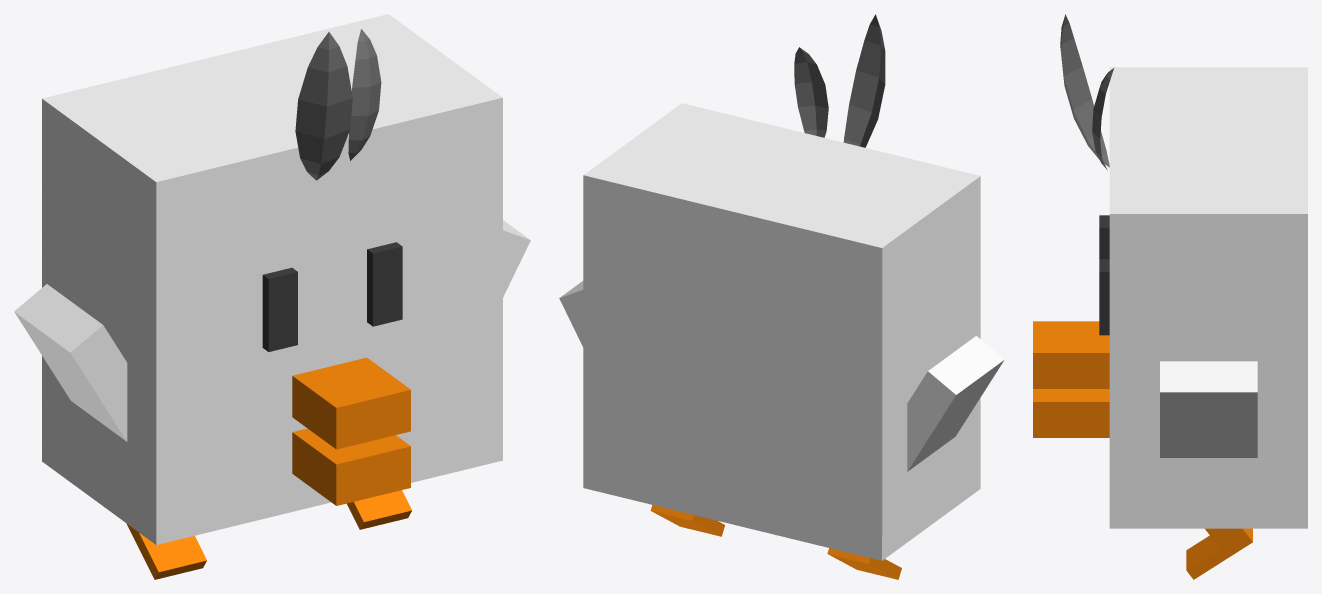
The model's file is Ch_03@Down.FBX.
3 renders of one model, left to right at view 1: azimuth 30°, elevation 25°; view 2: azimuth 150°, elevation 25°; view 3: azimuth 270°, elevation 25°, orthographic. The views are drawn at different scales.
Visible parts, largest first — view 1: Ch_03, Ch_03_Wing_L, Ch_03_Feather, Ch_03_Leg_L, Ch_03_Leg_R, Ch_03_Wing_R; view 2: Ch_03, Ch_03_Wing_L, Ch_03_Feather, Ch_03_Leg_L, Ch_03_Leg_R, Ch_03_Wing_R; view 3: Ch_03, Ch_03_Wing_R, Ch_03_Feather, Ch_03_Leg_R.
Boxes of the visible parts, box(x1,y1,x2,y2) form: Ch_03: box(42, 14, 502, 544); Ch_03_Wing_L: box(14, 284, 127, 441); Ch_03_Feather: box(295, 29, 381, 180); Ch_03_Leg_L: box(126, 523, 206, 579); Ch_03_Leg_R: box(347, 490, 411, 529); Ch_03_Wing_R: box(503, 220, 530, 297); Ch_03: box(583, 103, 980, 560); Ch_03_Wing_L: box(907, 336, 1004, 471); Ch_03_Feather: box(794, 14, 885, 147); Ch_03_Leg_L: box(827, 548, 901, 579); Ch_03_Leg_R: box(650, 505, 724, 536); Ch_03_Wing_R: box(559, 281, 583, 347); Ch_03: box(1033, 67, 1307, 528); Ch_03_Wing_R: box(1160, 361, 1257, 457); Ch_03_Feather: box(1060, 14, 1113, 169); Ch_03_Leg_R: box(1186, 528, 1252, 579).
Size of the model in its own units: 10.81 by 12.96 by 6.44.
